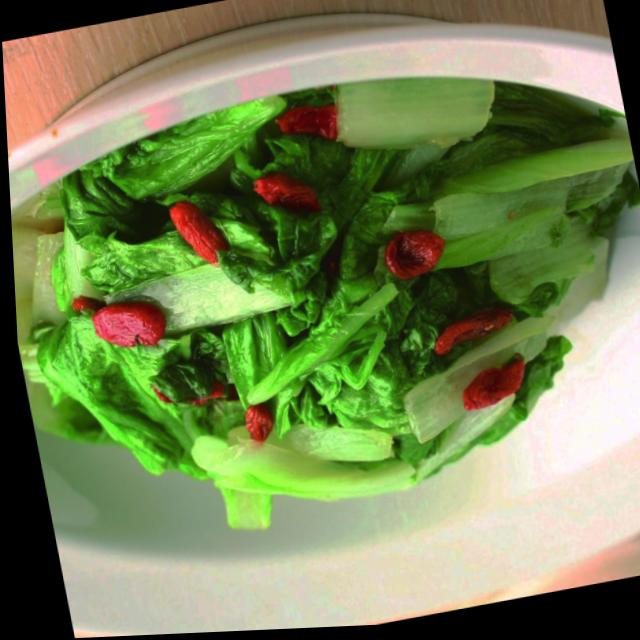chinese_cabbage: (18, 33, 640, 574)
